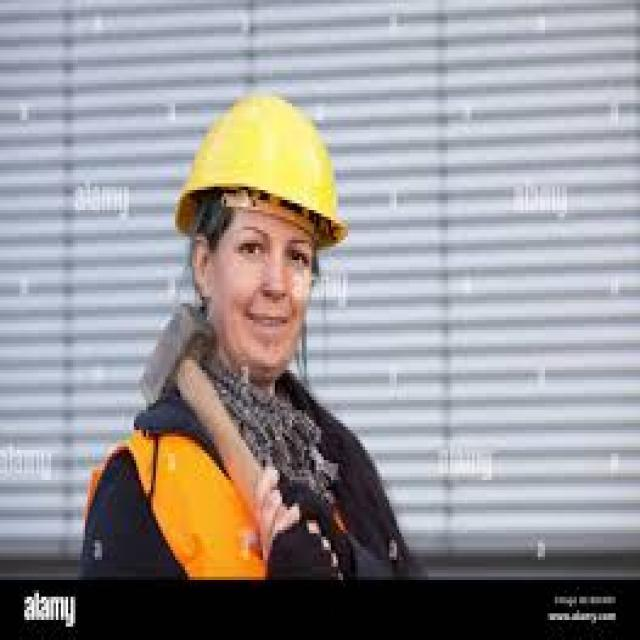hammer: (134, 295, 348, 585)
